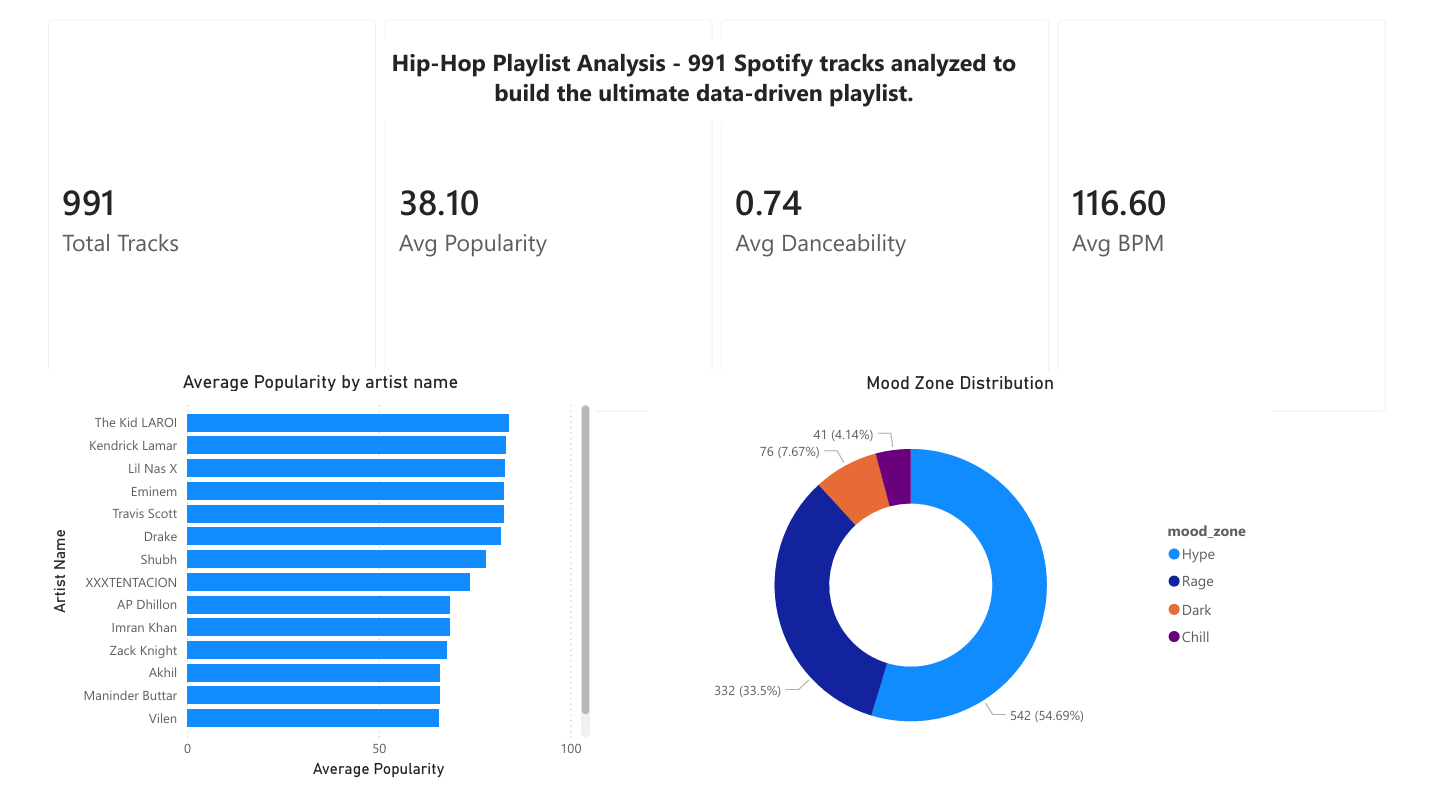

Layout of this report page (visuals, bound fields, positions):
{"tool":"powerbi","page":{"name":"Page 1","canvas":[1280,720],"ordinal":0},"visuals":[{"type":"cardVisual","fields":{"Data":["Sum(summary_stats_6b.total_tracks_analysed)","Sum(summary_stats_6b.avg_popularity)","Sum(summary_stats_6b.avg_danceability)","Sum(summary_stats_6b.avg_bpm)"]},"box":[5.6,0,1268.8,395.4],"z":0},{"type":"barChart","title":"Average Popularity by artist name","fields":{"Category":["artist_rankings_1a.artist_name"],"Y":["Sum(artist_rankings_1a.avg_popularity)"]},"box":[20.7,340.1,506.5,379.9],"z":1000},{"type":"donutChart","title":"Mood Zone Distribution","fields":{"Category":["track_mood_nmrs_3b(with track_count).mood_zone"],"Y":["Sum(track_mood_nmrs_3b(with track_count).track_count)"]},"box":[576.3,341.1,573.7,374.7],"z":2000},{"type":"textbox","box":[325.6,36.2,602.1,74.9],"z":3000}]}

Visuals, with their boxes in screenshot pixels (x1, y1, x2, y2), scaled from the page's 1280x720 canvas onto the 1436x804 screenshot:
cardVisual - Sum(summary_stats_6b.total_tracks_analysed) x Sum(summary_stats_6b.avg_popularity): bbox=(6, 0, 1430, 442)
"Average Popularity by artist name" barChart: bbox=(23, 380, 591, 803)
"Mood Zone Distribution" donutChart: bbox=(647, 381, 1290, 799)
textbox: bbox=(365, 40, 1041, 124)
